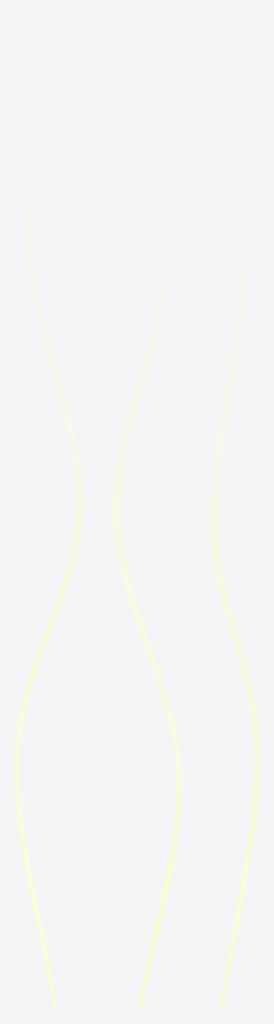
The model's file is strand_e_junction.glb.
The picture shows the model from 3 angles, left to right: view 1: azimuth 30°, elevation 25°; view 2: azimuth 210°, elevation 25°; view 3: azimuth 270°, elevation 25°; orthographic projection.
Size of the model in its own units: 0.3492 by 7 by 0.3202.
